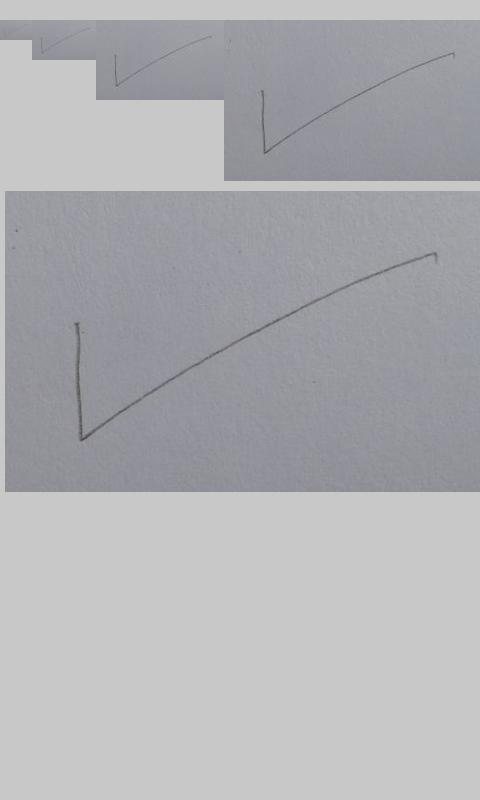check_box: (74, 251, 438, 442), (260, 52, 455, 154), (113, 35, 211, 87), (40, 27, 89, 54), (3, 25, 26, 37)
